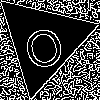O: (18, 16, 67, 71)
